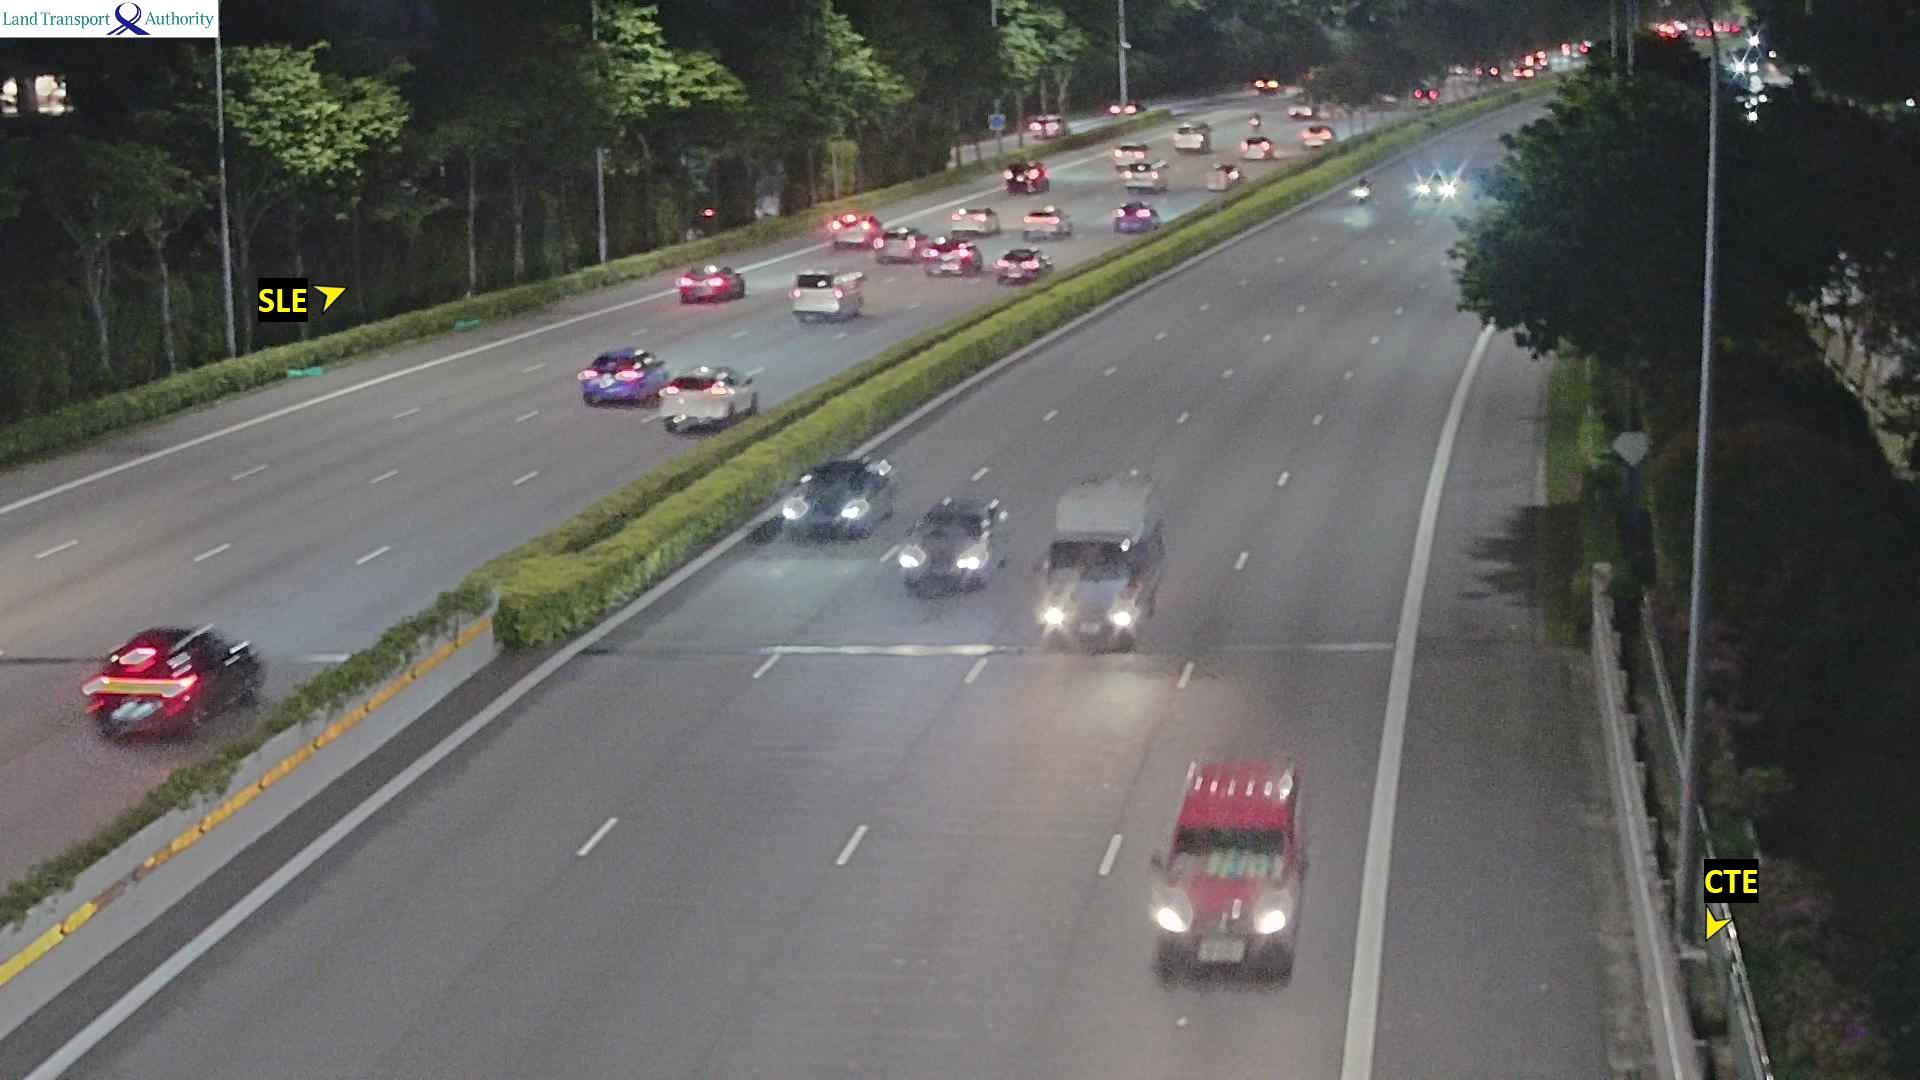cars: (1145, 754, 1308, 975), (80, 621, 261, 741), (895, 493, 1007, 593), (781, 454, 895, 541), (655, 363, 764, 433), (576, 345, 669, 406), (789, 268, 866, 323), (674, 261, 745, 305), (920, 235, 982, 276), (992, 247, 1054, 284), (825, 210, 881, 249), (872, 224, 928, 262), (1021, 204, 1072, 239), (1112, 200, 1160, 233), (1410, 167, 1458, 200), (949, 204, 1000, 236), (1121, 160, 1168, 193), (1002, 160, 1048, 193), (1204, 160, 1242, 190), (1691, 17, 1742, 38), (1171, 123, 1208, 152), (1112, 140, 1149, 169), (1025, 113, 1064, 138), (1240, 135, 1274, 160), (1300, 123, 1335, 146), (1560, 40, 1598, 61), (1520, 47, 1553, 71), (1654, 18, 1688, 40), (1106, 99, 1145, 116), (1474, 61, 1505, 80), (1349, 175, 1371, 202), (1411, 83, 1439, 102), (1251, 76, 1278, 94), (1286, 102, 1312, 119), (1513, 65, 1536, 83), (1246, 111, 1261, 129)
trucks: (1033, 467, 1168, 651)
